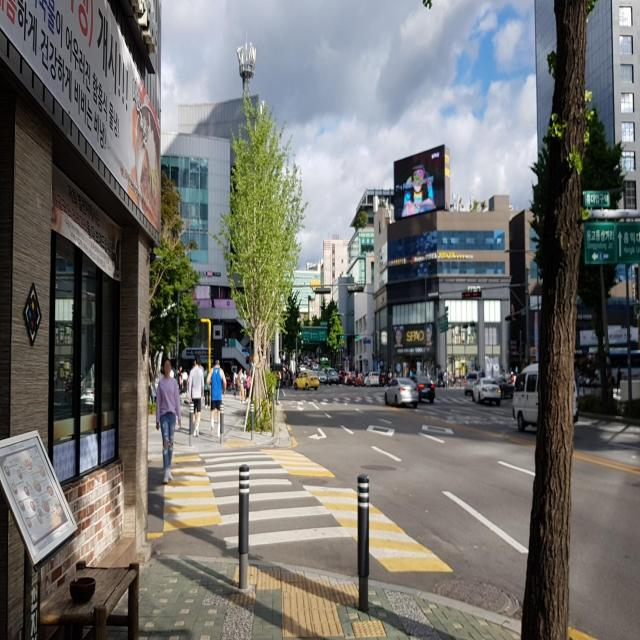횡단보도: (198, 449, 353, 552), (286, 391, 473, 408)
